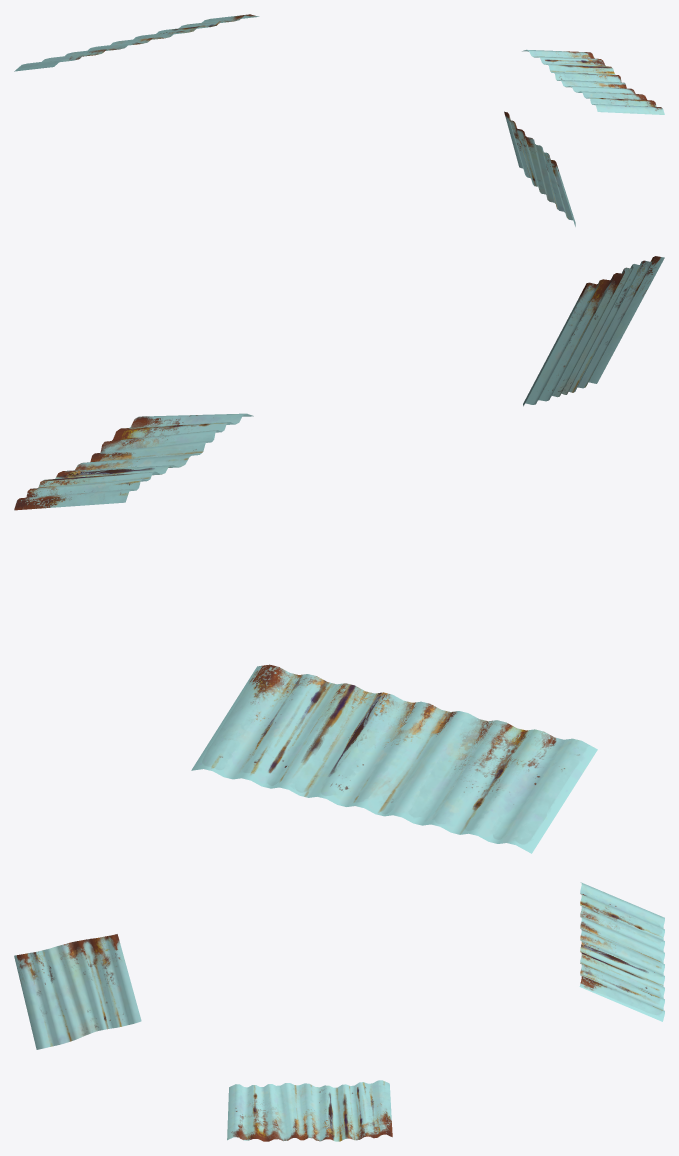
File: metal.FBX
3 renders of one model, top to bottom at view 1: azimuth 30°, elevation 25°; view 2: azimuth 150°, elevation 25°; view 3: azimuth 270°, elevation 25°, orthographic. The views are drawn at different scales.
Visible parts, largest first — view 1: gift metal plate, roof metal plate, back roof; view 2: back roof, gift metal plate, roof metal plate; view 3: roof metal plate, gift metal plate, back roof.
Part boxes in pixels (x1,y1,x2,y2): gift metal plate: (522, 49, 664, 114); roof metal plate: (504, 111, 575, 226); back roof: (14, 14, 259, 71); back roof: (191, 664, 597, 853); gift metal plate: (14, 413, 253, 510); roof metal plate: (523, 256, 664, 406); roof metal plate: (14, 934, 141, 1049); gift metal plate: (227, 1080, 392, 1141); back roof: (579, 882, 664, 1021).
Bounding box in the file's own units: 1332 × 273 × 1613.
